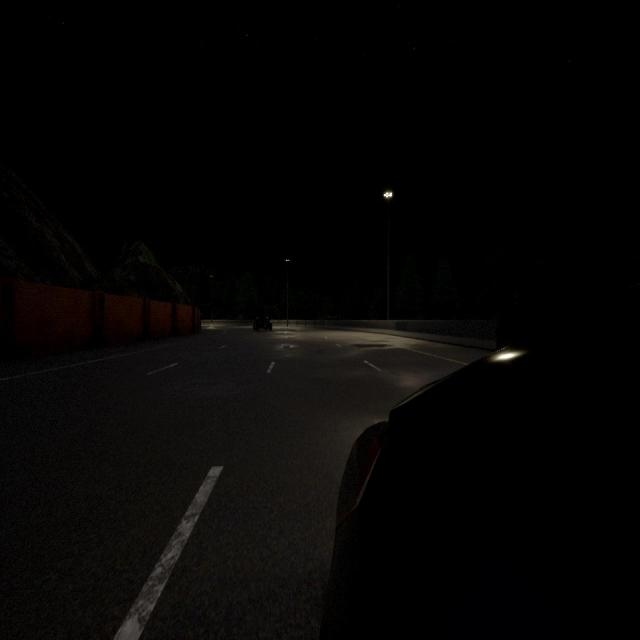Vehicle: (320, 328, 640, 637), (253, 313, 272, 331)
